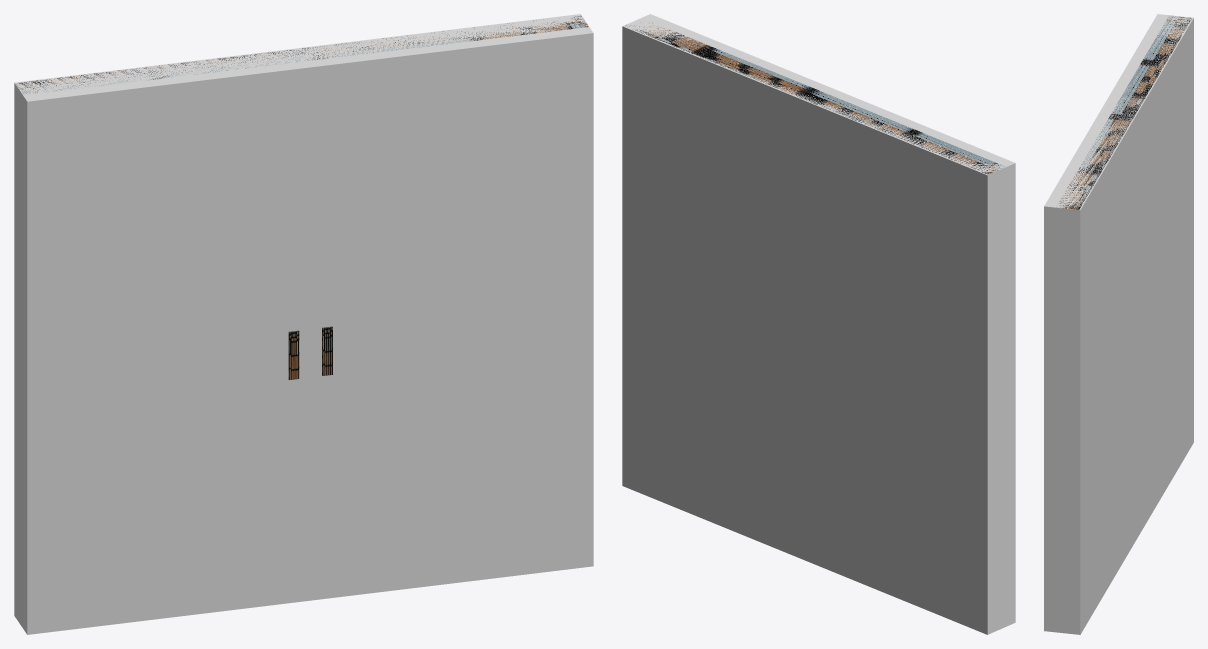
The model's file is mdl_ra3_pheta_ventana.fbx.
3 renders of one model, left to right at view 1: azimuth 30°, elevation 25°; view 2: azimuth 150°, elevation 25°; view 3: azimuth 270°, elevation 25°, orthographic. The views are drawn at different scales.
Parts seen in each view (by area): view 1: COL_Pheta_Ventana, SM_Pheta_Ventana; view 2: COL_Pheta_Ventana, SM_Pheta_Ventana; view 3: COL_Pheta_Ventana, SM_Pheta_Ventana.
Boxes of the visible parts, <box> form: COL_Pheta_Ventana: <box>14,14,593,634</box>; SM_Pheta_Ventana: <box>16,16,588,379</box>; COL_Pheta_Ventana: <box>622,14,1015,634</box>; SM_Pheta_Ventana: <box>626,25,1004,174</box>; COL_Pheta_Ventana: <box>1044,14,1193,634</box>; SM_Pheta_Ventana: <box>1058,15,1191,209</box>.
Size of the model in its own units: 86.69 by 87.5 by 27.98.
